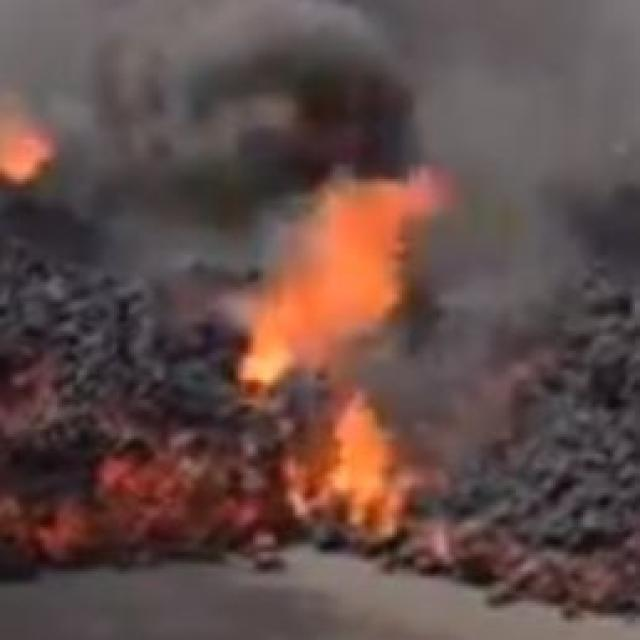Fire: (260, 165, 448, 549)
Smoke: (0, 0, 600, 458)
